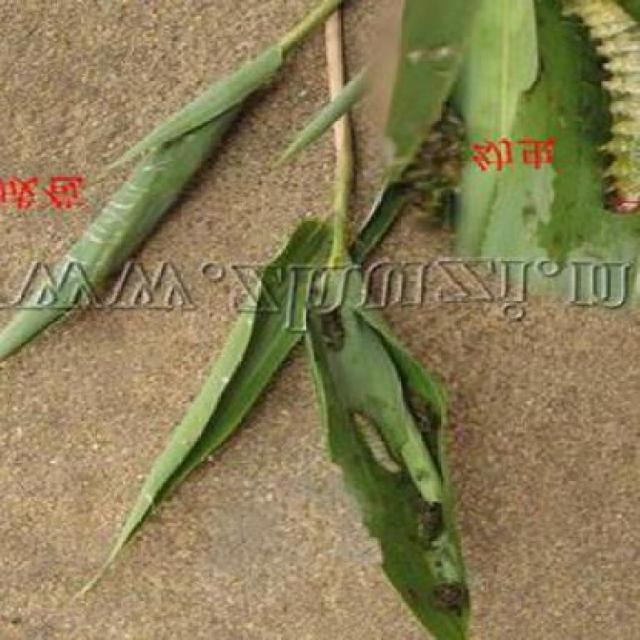leaf-folder: (527, 6, 640, 264), (326, 389, 408, 493)
